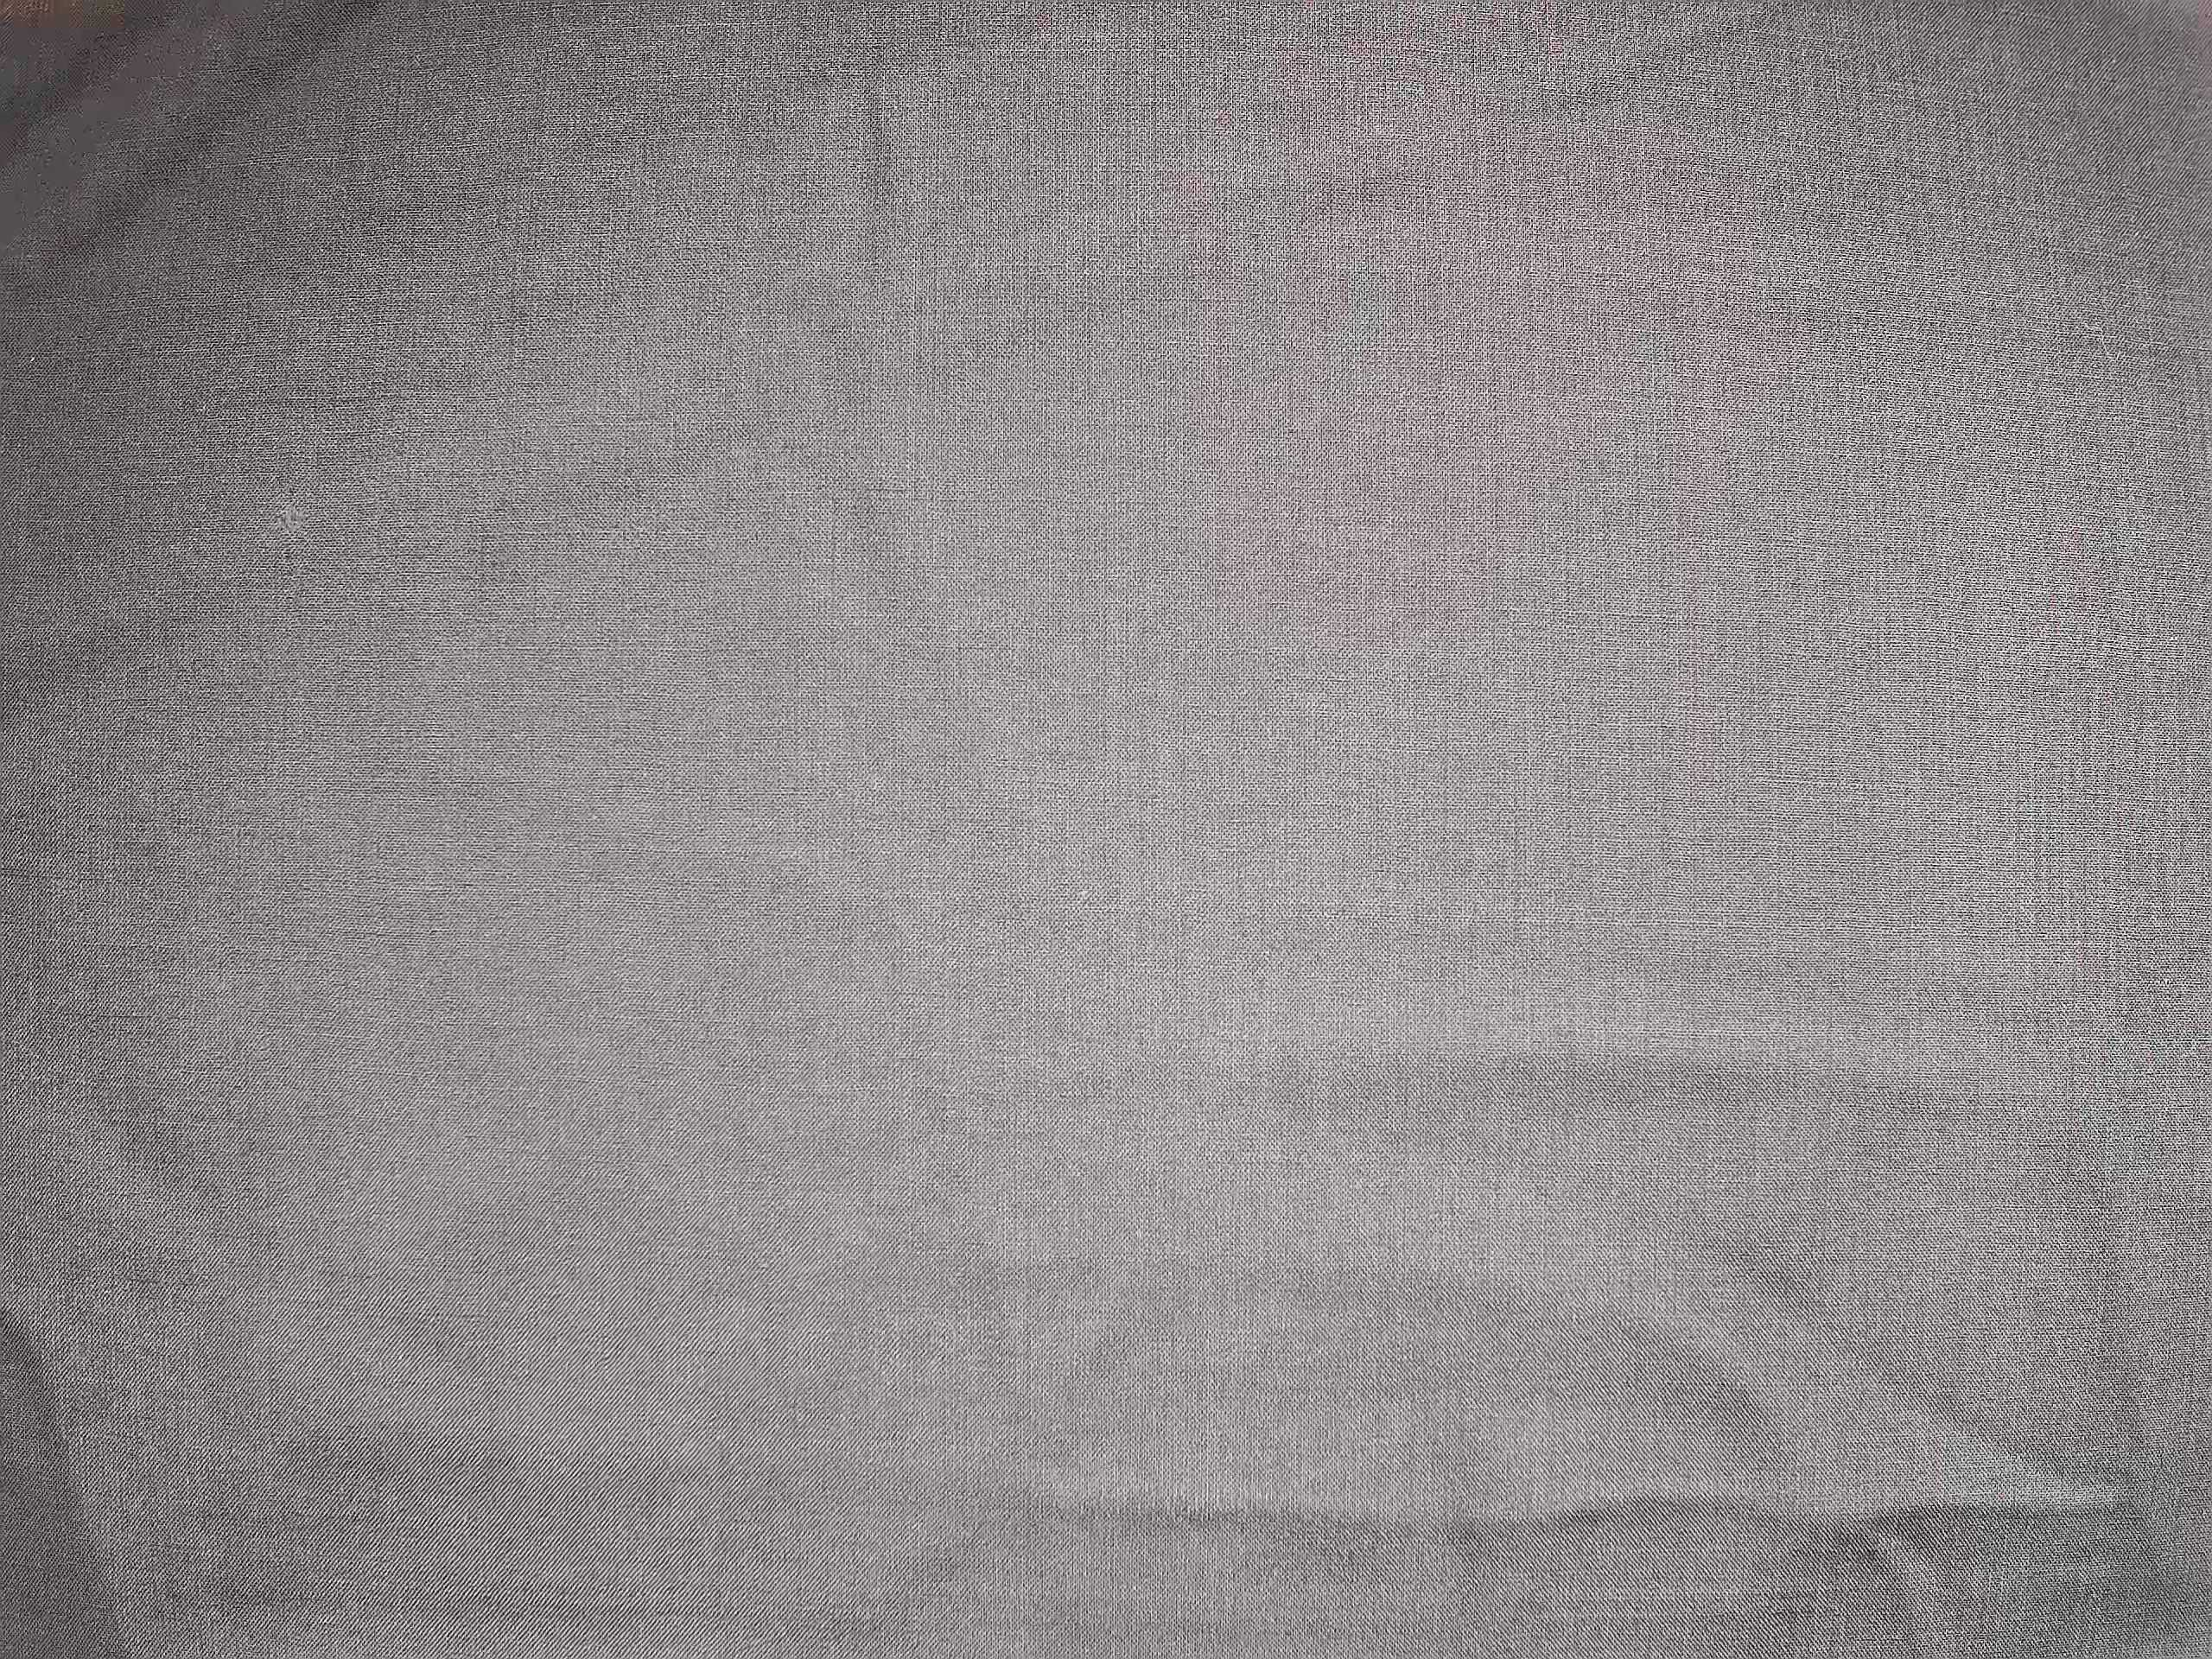rubbing-hole: (261, 483, 322, 558)
